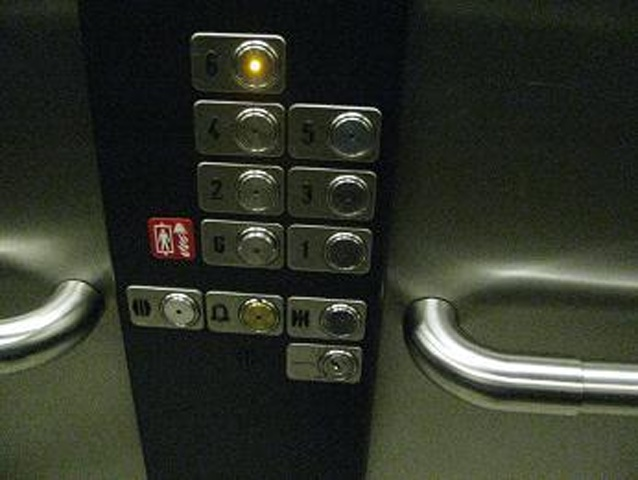1: (286, 222, 372, 276)
2: (196, 160, 287, 217)
3: (286, 165, 377, 223)
4: (193, 99, 285, 160)
5: (287, 102, 383, 163)
6: (188, 31, 289, 94)
G: (199, 217, 286, 271)
alarm: (204, 290, 286, 336)
bt_keyhole: (287, 342, 368, 388)
close: (285, 293, 368, 343)
open: (127, 281, 205, 333)
